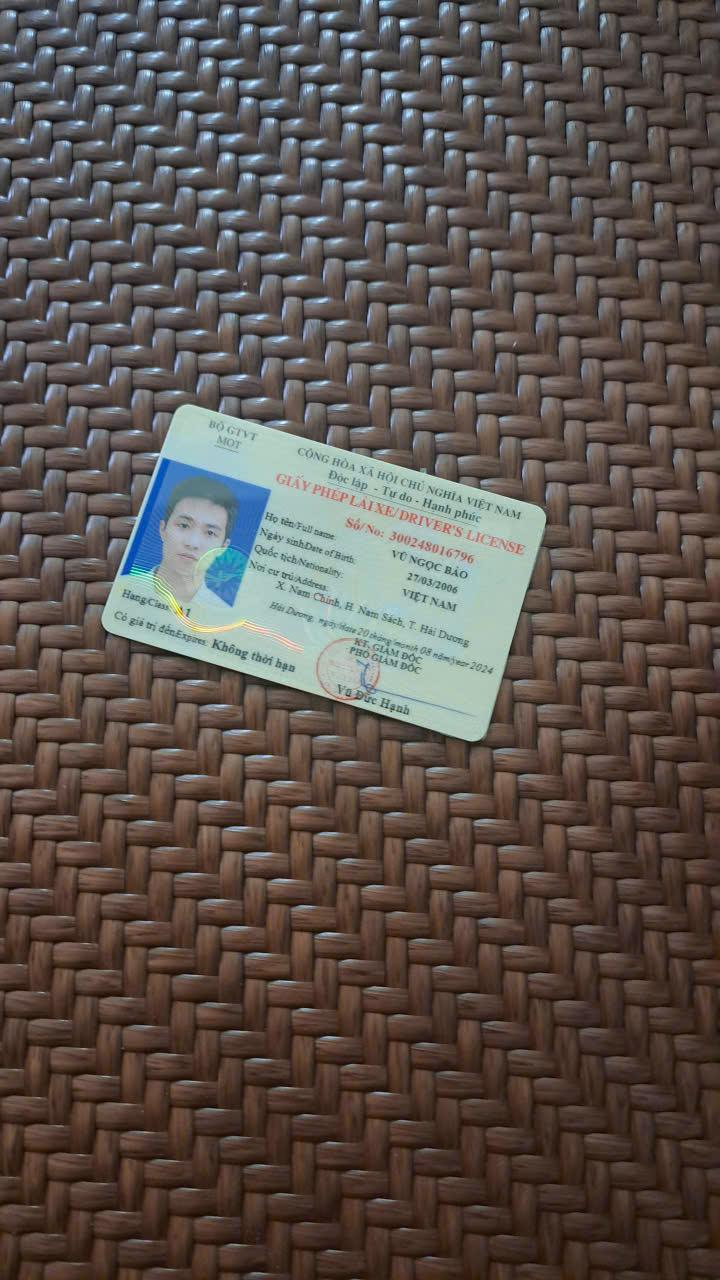gplx: (92, 399, 550, 748)
